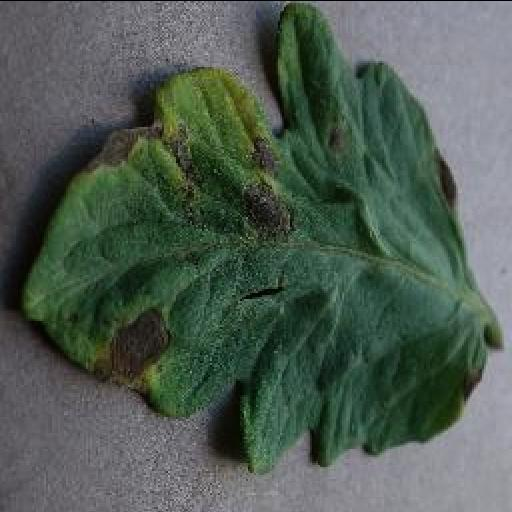disease_tomato: (22, 4, 510, 468)
